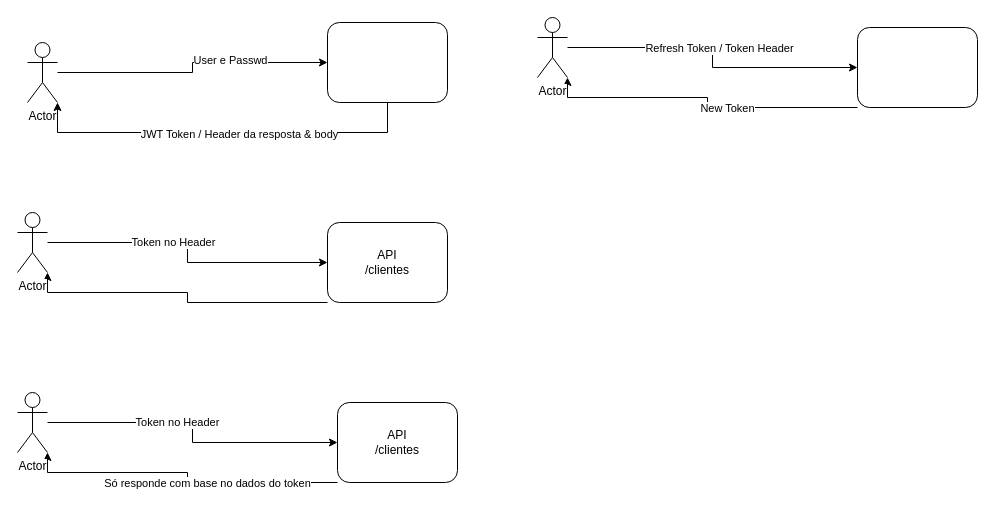
The diagram is 995 pixels wide and 508 high, and some of its shapes have lost their labels. Here are the shapes that lost their labels. From the top down, the centre of each, then its label:
the point at 387,62: API /login
the point at 917,67: API /refresh_token
